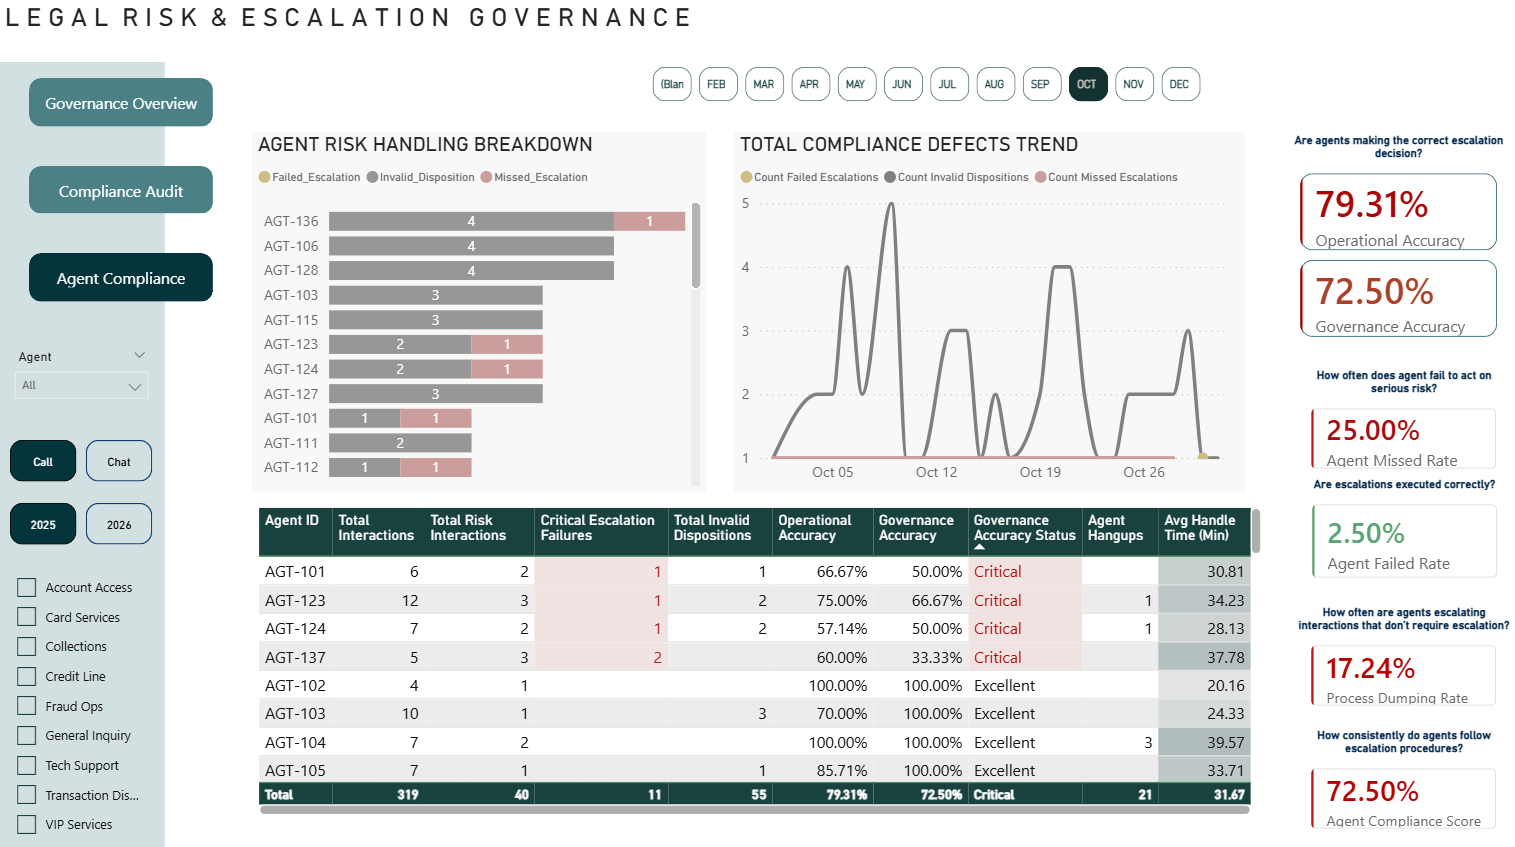

The dashboard page shown, as its layout file describes it:
{"tool":"powerbi","page":{"name":"AGENT COMPLIANCE","canvas":[1280,720],"ordinal":2},"visuals":[{"type":"textbox","box":[0,0,605.4,38.1],"z":0},{"type":"actionButton","box":[25,68.9,155.2,41.1],"z":0,"group":"g1"},{"type":"cardVisual","fields":{"Data":["_Measures.Escalation Accuracy","_Measures.Governance Accuracy"]},"box":[1079.6,110.1,200.4,194.7],"z":1000},{"type":"actionButton","box":[25,143.2,155.2,40.2],"z":1000,"group":"g1"},{"type":"actionButton","box":[25,216.6,155.2,41.1],"z":2000,"group":"g1"},{"type":"cardVisual","fields":{"Data":["_Measures.Agent Missed Rate"]},"box":[1089.1,308.6,190.9,107],"z":2000},{"type":"shape","box":[0,55.3,139.8,664.5],"z":3000},{"type":"listSlicer","fields":{"Values":["Interactions.queue"]},"box":[9.3,480.6,120.6,238.4],"z":4000},{"type":"group","id":"g1","title":"Group 1","box":[25,68.9,155.4,188.8],"z":5000},{"type":"cardVisual","fields":{"Data":["_Measures.Process Dumping Rate"]},"box":[1089.1,508,190.9,107],"z":6000},{"type":"advancedSlicerVisual","fields":{"Values":["Interactions.date.Variation.Date Hierarchy.Month"]},"box":[526.1,55.2,514,39.2],"z":7000},{"type":"advancedSlicerVisual","fields":{"Values":["Interactions.date.Variation.Date Hierarchy.Year"]},"box":[4.2,422.5,130.4,45],"z":8000},{"type":"advancedSlicerVisual","fields":{"Values":["Interactions.interaction_type"]},"box":[4.2,369.3,130.4,45],"z":9000},{"type":"slicer","fields":{"Values":["Interactions.agent_id"]},"box":[3.6,292.8,132.5,56.4],"z":12000},{"type":"barChart","title":"AGENT RISK HANDLING BREAKDOWN","fields":{"Category":["Interactions.agent_id"],"Series":["Interactions.escalation_validity"],"Y":["_Measures.Total Interactions"]},"box":[213,114.8,383.2,304.4],"z":13000},{"type":"lineChart","title":"TOTAL COMPLIANCE DEFECTS TREND","fields":{"Y":["_Measures.Count Failed Escalations","_Measures.Count Invalid Dispositions","_Measures.Count Missed Escalations"],"Category":["Interactions.date"]},"box":[619.6,114.8,430.9,304.4],"z":14000},{"type":"cardVisual","fields":{"Data":["_Measures.Agent Failed Rate"]},"box":[1090.1,400.7,190,107.3],"z":15000},{"type":"cardVisual","fields":{"Data":["_Measures.Agent Compliance Score"]},"box":[1089.1,612.5,190.9,107.3],"z":16000},{"type":"tableEx","fields":{"Values":["Interactions.agent_id","_Measures.Total Interactions","_Measures.Total Risk Interactions","_Measures.Critical Escalation Failures","_Measures.Count Invalid Dispositions","_Measures.Escalation Accuracy","_Measures.Governance Accuracy","_Measures.Escalation Accuracy Status","_Measures.Agent Hangups","_Measures.Avg Handle Time (Min)"]},"box":[213,427,856,268.5],"z":17000}]}

Visuals, with their boxes in screenshot pixels (x1, y1, x2, y2), scaled from the page's 1280x720 canvas onto the 1515x847 screenshot:
textbox: pyautogui.locateOnScreen(0, 0, 717, 45)
actionButton: pyautogui.locateOnScreen(30, 81, 213, 129)
cardVisual - _Measures.Escalation Accuracy x _Measures.Governance Accuracy: pyautogui.locateOnScreen(1278, 130, 1514, 359)
actionButton: pyautogui.locateOnScreen(30, 168, 213, 216)
actionButton: pyautogui.locateOnScreen(30, 255, 213, 303)
cardVisual - _Measures.Agent Missed Rate: pyautogui.locateOnScreen(1289, 363, 1514, 489)
shape: pyautogui.locateOnScreen(0, 65, 165, 846)
listSlicer - Interactions.queue: pyautogui.locateOnScreen(11, 565, 154, 846)
"Group 1" group: pyautogui.locateOnScreen(30, 81, 214, 303)
cardVisual - _Measures.Process Dumping Rate: pyautogui.locateOnScreen(1289, 598, 1514, 723)
advancedSlicerVisual - Interactions.date.Variation.Date Hierarchy.Month: pyautogui.locateOnScreen(623, 65, 1231, 111)
advancedSlicerVisual - Interactions.date.Variation.Date Hierarchy.Year: pyautogui.locateOnScreen(5, 497, 159, 550)
advancedSlicerVisual - Interactions.interaction_type: pyautogui.locateOnScreen(5, 434, 159, 487)
slicer - Interactions.agent_id: pyautogui.locateOnScreen(4, 344, 161, 411)
"AGENT RISK HANDLING BREAKDOWN" barChart: pyautogui.locateOnScreen(252, 135, 706, 493)
"TOTAL COMPLIANCE DEFECTS TREND" lineChart: pyautogui.locateOnScreen(733, 135, 1243, 493)
cardVisual - _Measures.Agent Failed Rate: pyautogui.locateOnScreen(1290, 471, 1514, 598)
cardVisual - _Measures.Agent Compliance Score: pyautogui.locateOnScreen(1289, 721, 1514, 846)
tableEx - Interactions.agent_id x _Measures.Total Interactions: pyautogui.locateOnScreen(252, 502, 1265, 818)
